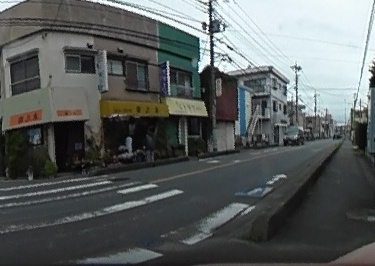person: (141, 131, 156, 162)
